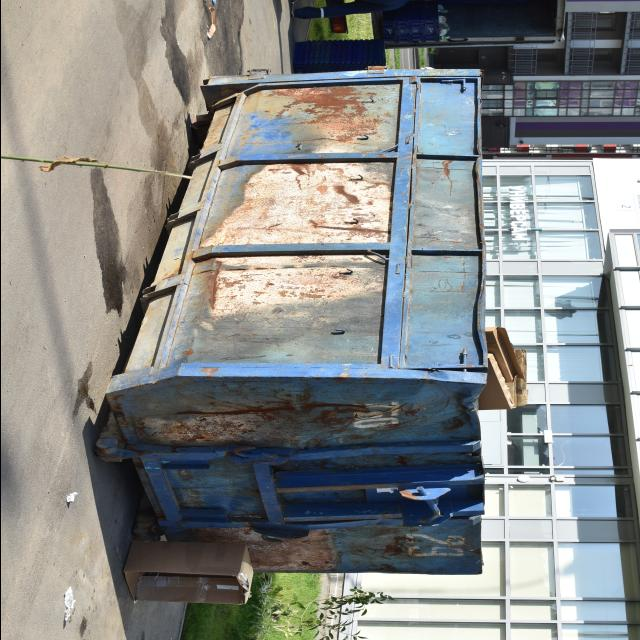entulho: (122, 542, 254, 606), (479, 326, 527, 406)
lixo domiciliar: (204, 1, 217, 40), (66, 492, 78, 504)
